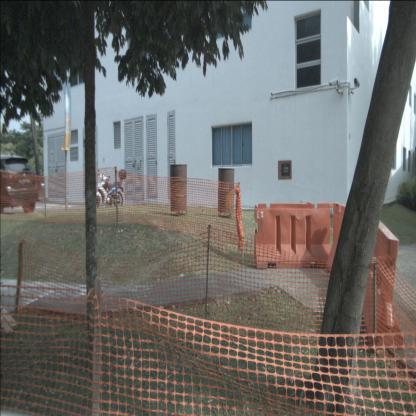movable_object-barrier: (358, 219, 407, 352), (254, 202, 334, 270), (324, 202, 362, 288)
vehicle-car: (0, 154, 38, 214)
vehicle-motorcycle: (94, 168, 126, 208)
